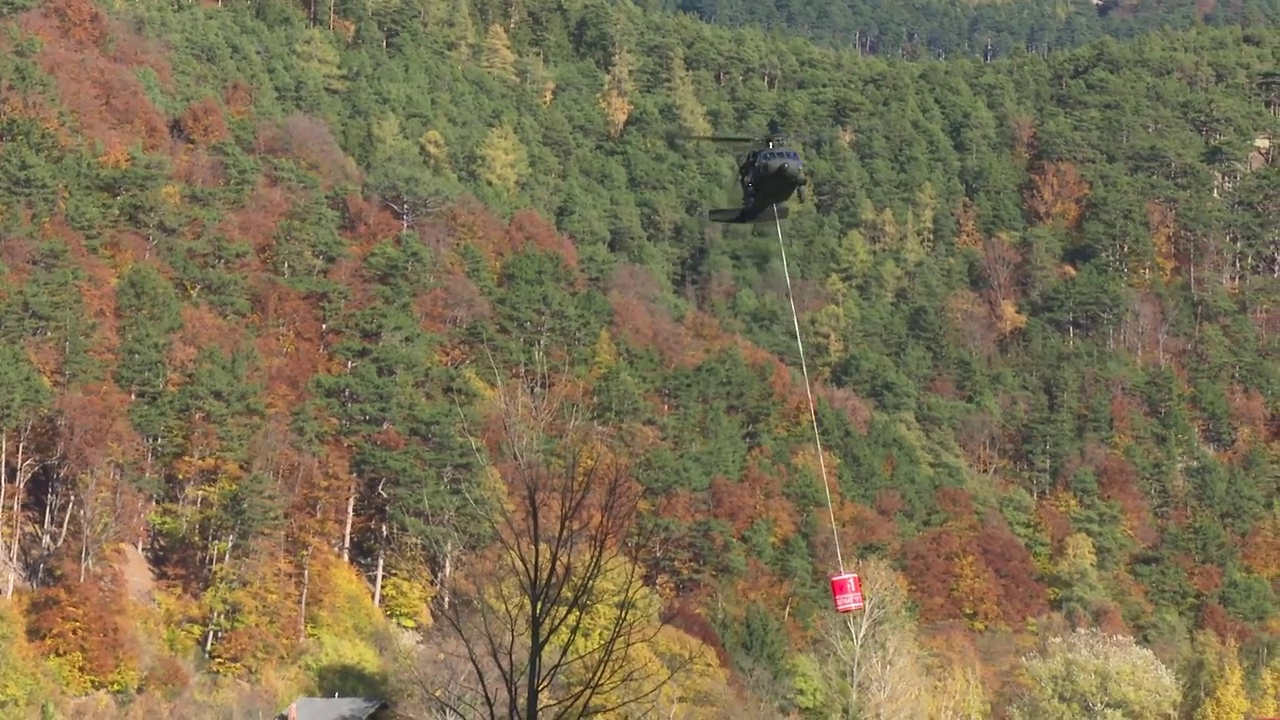heli: (703, 133, 807, 226)
